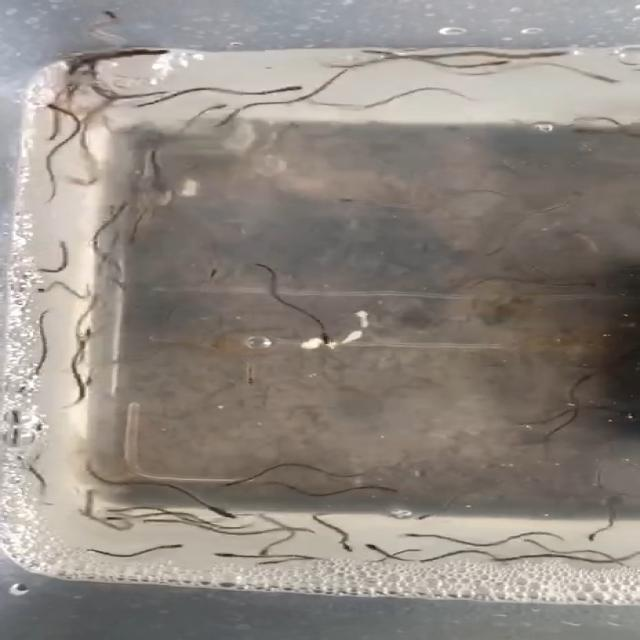inactive_glass_eel: (285, 91, 328, 109), (587, 70, 630, 87), (238, 367, 271, 389), (527, 47, 575, 62), (128, 45, 172, 61), (76, 324, 101, 350), (196, 100, 236, 116), (220, 475, 256, 491), (336, 193, 377, 207), (91, 7, 121, 26), (399, 525, 437, 540), (484, 552, 524, 566), (104, 202, 135, 220), (275, 82, 309, 98), (362, 483, 400, 497), (38, 102, 68, 118), (59, 70, 83, 90), (19, 282, 52, 296), (93, 512, 126, 526), (198, 264, 222, 283), (209, 116, 240, 130), (259, 539, 278, 561), (204, 551, 255, 559), (155, 541, 188, 553), (208, 506, 236, 520), (315, 328, 333, 347), (480, 57, 510, 68), (339, 537, 358, 554), (363, 540, 388, 552), (579, 530, 601, 542), (411, 508, 430, 520)
